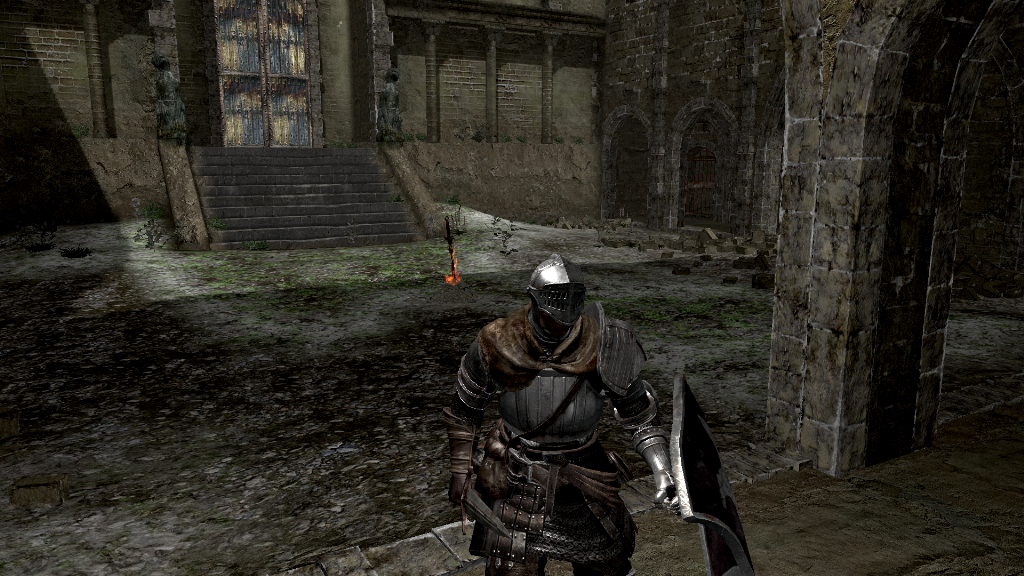bonfire: (439, 215, 467, 291)
player: (446, 252, 758, 576)
